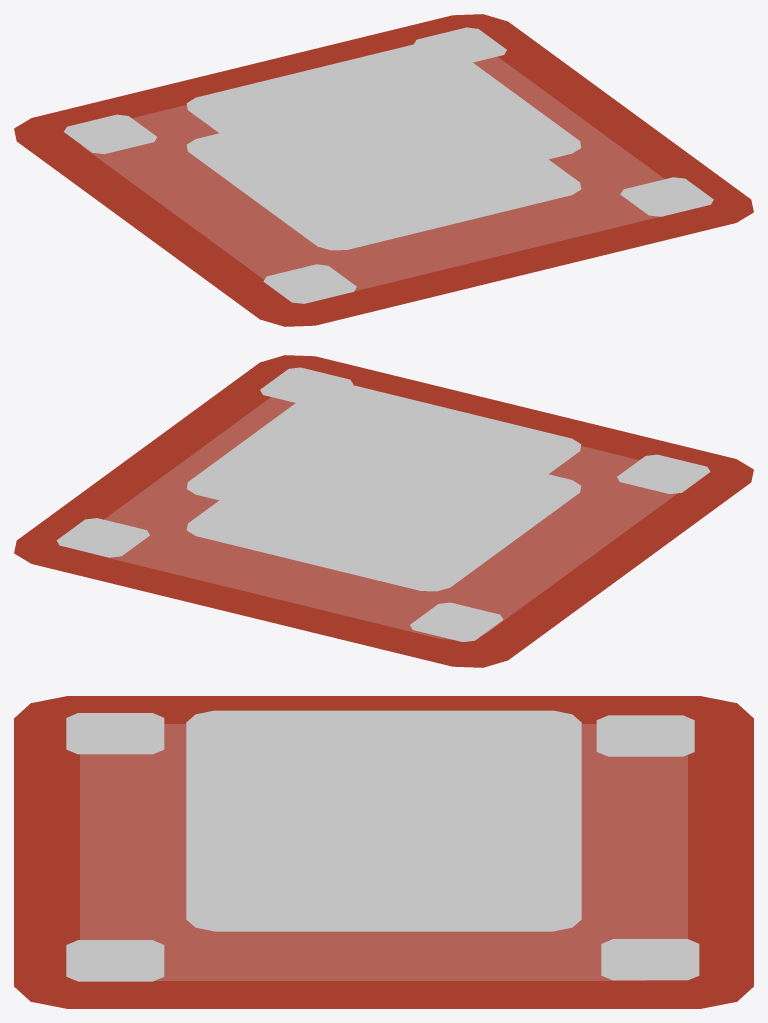
The model's file is BC_cookrecipe_S_21.fbx.
The picture shows the model from 3 angles, top to bottom: view 1: azimuth 30°, elevation 25°; view 2: azimuth 150°, elevation 25°; view 3: azimuth 270°, elevation 25°; orthographic projection. The views are drawn at different scales.
Visible parts, largest first — view 1: base, base3, base4, base2, base1, base8, base7, base5, base6; view 2: base, base3, base4, base2, base1, base6, base8, base5, base7; view 3: base, base3, base4, base2, base1, base7, base5, base6, base8.
Part boxes in pixels (x1,y1,x2,y2): base: (14,14,753,326); base3: (186,42,581,208); base4: (186,133,581,250); base2: (257,69,510,176); base1: (304,86,463,153); base8: (263,264,356,303); base7: (620,177,713,216); base5: (64,114,156,154); base6: (414,27,506,62); base: (14,355,753,667); base3: (186,383,581,549); base4: (186,474,581,591); base2: (257,410,510,517); base1: (304,427,463,494); base6: (56,518,149,557); base8: (617,454,710,493); base5: (410,602,503,641); base7: (260,367,353,402); base: (14,696,753,1008); base3: (186,710,581,877); base4: (186,866,581,931); base2: (257,737,510,844); base1: (304,753,463,820); base7: (66,940,164,981); base5: (596,715,694,756); base6: (601,939,699,980); base8: (66,713,164,754).
Bounding box in the file's own units: 3.5 × 0.3415 × 3.5.
